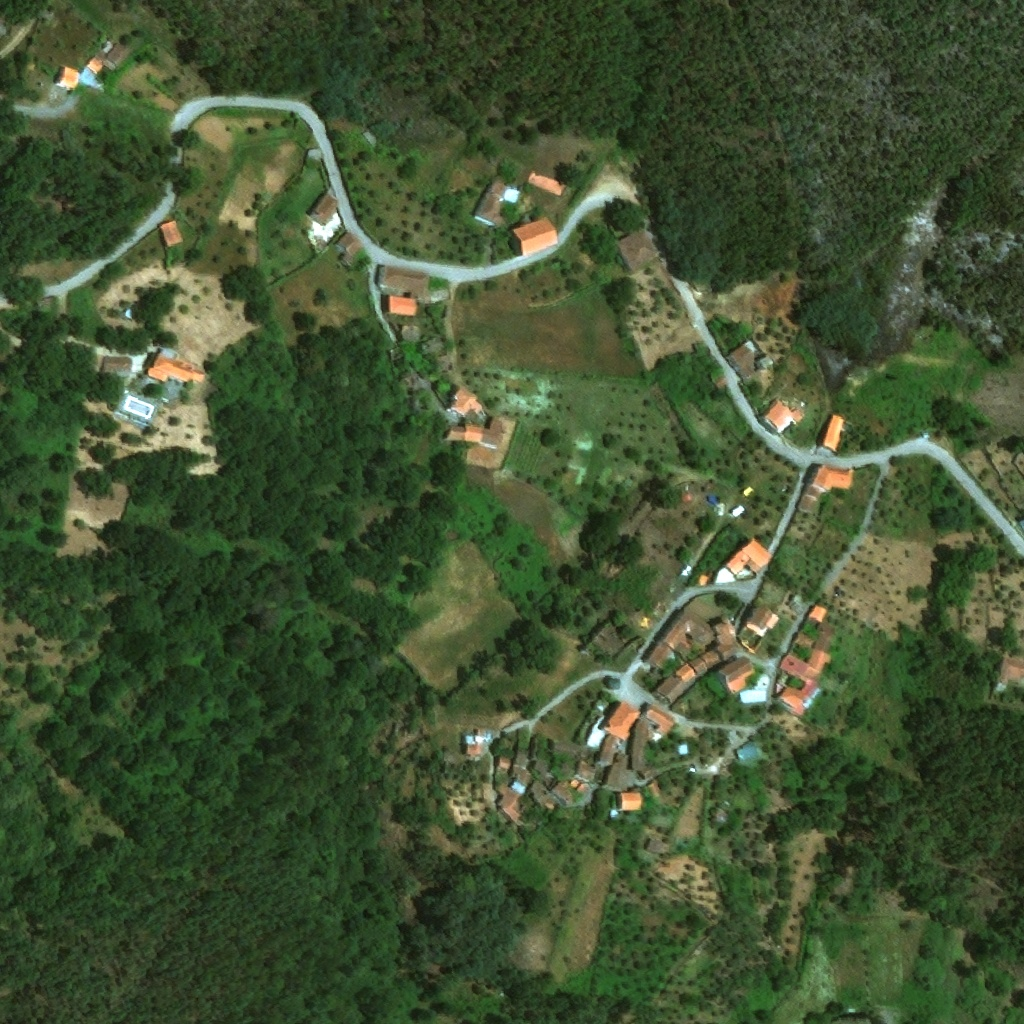0 no-damage: (777, 626, 835, 717), (644, 609, 715, 673), (376, 266, 442, 318), (142, 352, 206, 404), (795, 464, 854, 514), (470, 179, 520, 227), (738, 606, 779, 654), (724, 339, 773, 379), (615, 229, 658, 271), (512, 218, 558, 257), (724, 539, 773, 575), (599, 700, 641, 740), (625, 720, 653, 780), (716, 656, 756, 694), (84, 44, 129, 77), (494, 782, 528, 824), (602, 753, 637, 792), (304, 192, 339, 229), (712, 619, 741, 662), (528, 170, 568, 200), (333, 233, 365, 268), (449, 386, 485, 417), (510, 748, 533, 795), (818, 415, 847, 452), (761, 401, 794, 433), (644, 705, 677, 737), (529, 781, 564, 811), (653, 675, 687, 705), (548, 739, 590, 762), (592, 733, 620, 766), (995, 658, 1023, 691), (461, 734, 491, 758), (481, 416, 504, 447), (158, 221, 184, 247), (672, 663, 698, 689), (803, 603, 829, 628), (785, 593, 811, 617), (551, 779, 575, 803), (56, 66, 79, 90), (103, 357, 132, 376), (699, 649, 722, 672), (79, 66, 101, 89), (617, 792, 643, 811), (587, 726, 606, 751), (687, 657, 708, 679), (736, 741, 759, 761), (611, 1003, 634, 1023), (574, 763, 598, 782), (464, 422, 485, 443), (422, 339, 446, 357), (739, 689, 767, 704), (442, 426, 464, 443), (401, 327, 421, 344), (645, 839, 664, 855), (361, 130, 379, 146), (533, 760, 552, 774), (538, 774, 558, 786), (711, 375, 727, 389), (695, 575, 713, 586), (308, 149, 322, 161), (607, 679, 621, 691), (498, 758, 513, 769)
